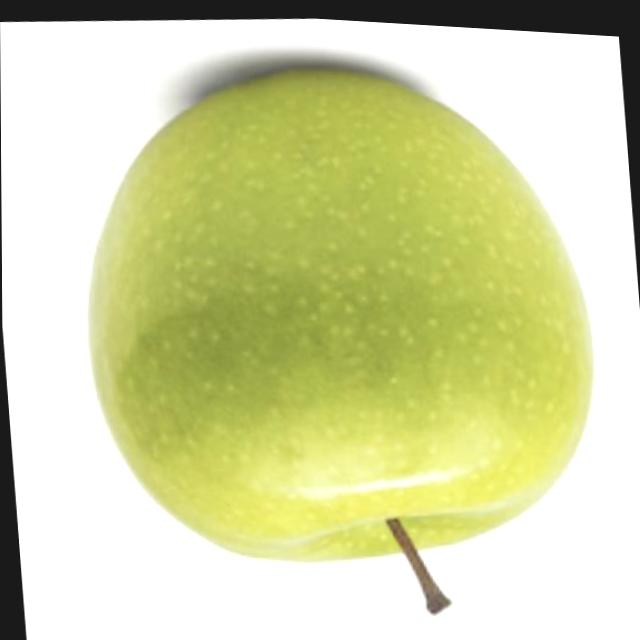Apple: (65, 32, 613, 640)
